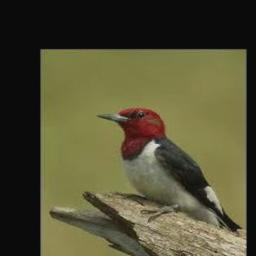Woodpecker: (96, 107, 242, 233)
